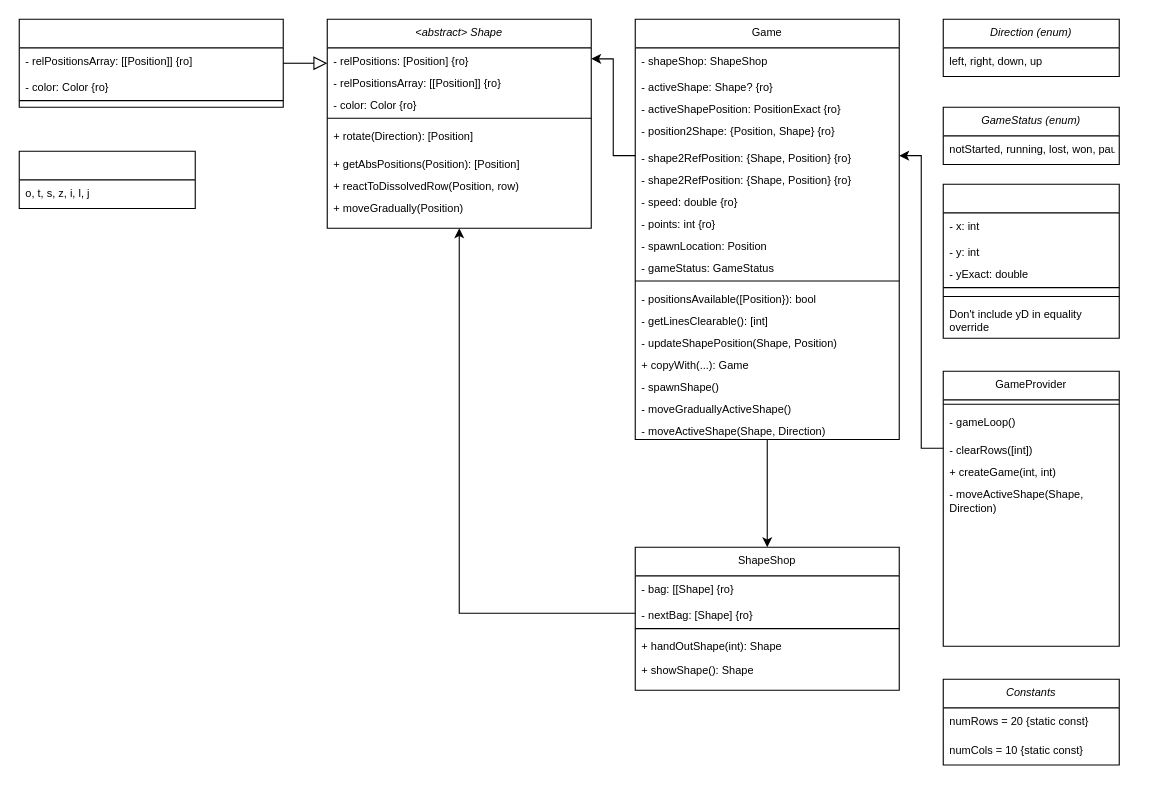
Image size: 1153x788. Some labels were removed from this diagram. The shapes that lost their labels are listed below. From the top down, each one's box as (x1, y1, x2, y2) in pixels, then its label:
(18, 18, 283, 107): ShapeO / ShapeL / etc.
(18, 150, 195, 208): ShapeForm (enum)
(942, 183, 1119, 338): Position
